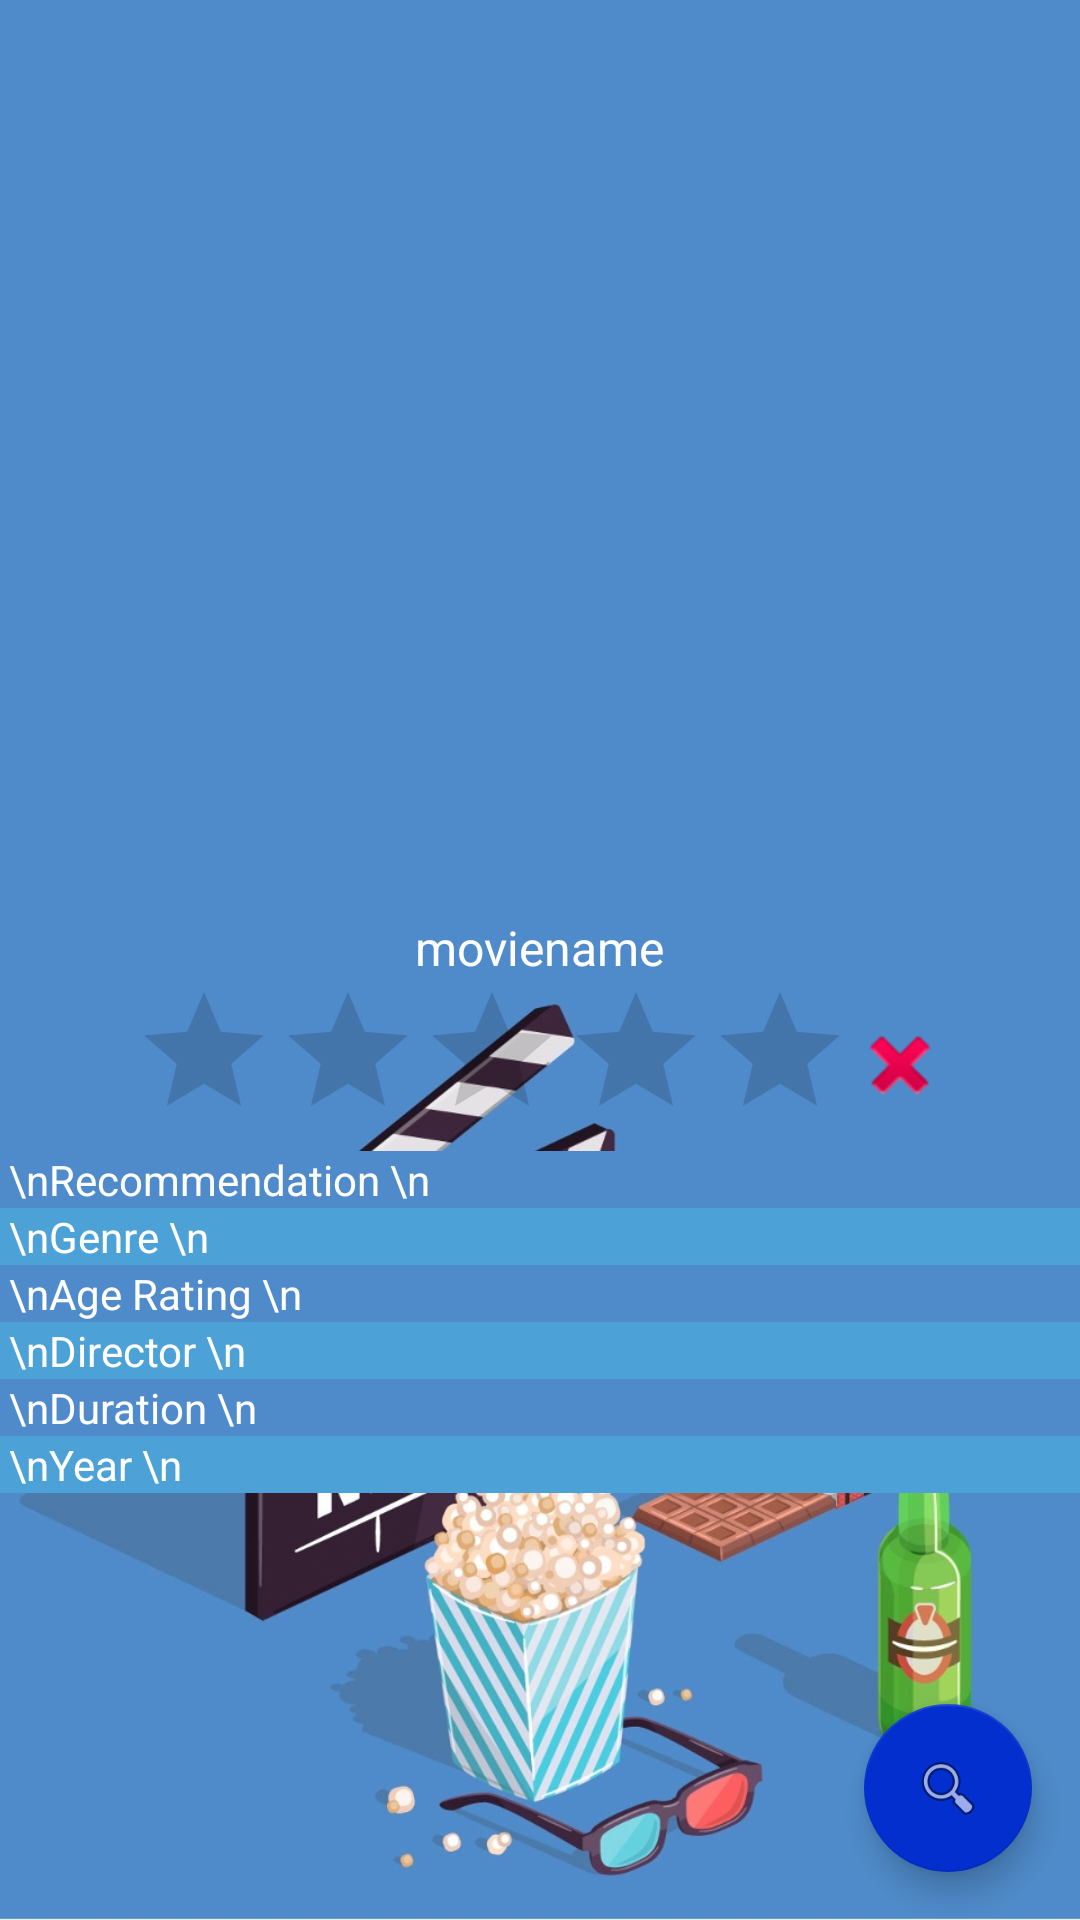

Named icons in this screenshot (1080 × 1920) and their centers, (x=x, y=y):
delete: (x=900, y=1065)
search: (x=948, y=1788)
